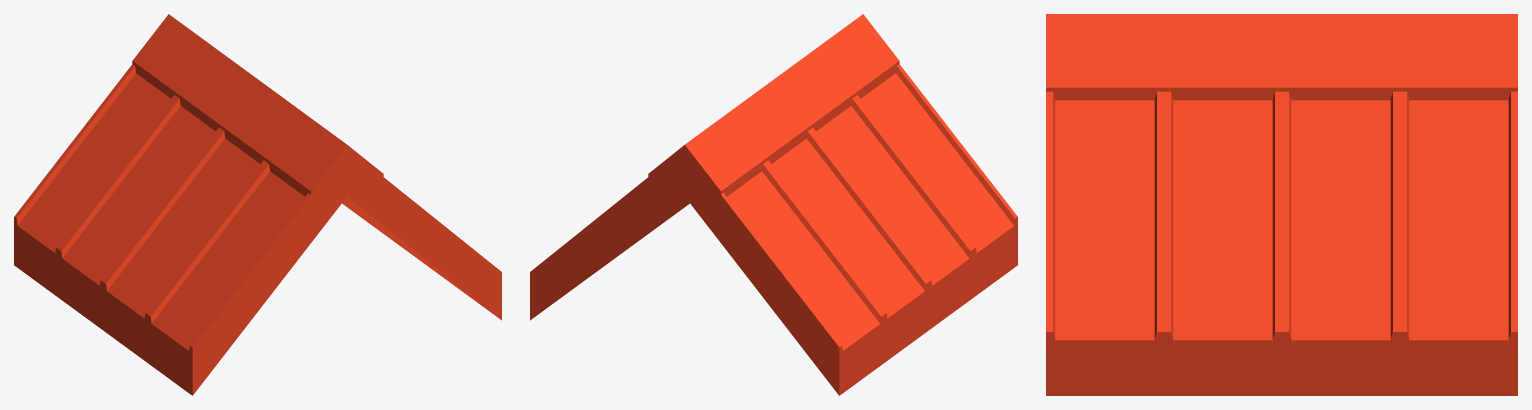
Rendered from roof-metal-regular-2x1m-center.fbx.
The picture shows the model from 3 angles, left to right: view 1: azimuth 30°, elevation 25°; view 2: azimuth 150°, elevation 25°; view 3: azimuth 270°, elevation 25°; orthographic projection. The views are drawn at different scales.
Parts seen in each view (by area): view 1: roof-metal-regular-2x1m-center; view 2: roof-metal-regular-2x1m-center; view 3: roof-metal-regular-2x1m-center.
Boxes of the visible parts, bbox=[...] form: roof-metal-regular-2x1m-center: bbox=[14, 14, 501, 395]; roof-metal-regular-2x1m-center: bbox=[530, 14, 1017, 395]; roof-metal-regular-2x1m-center: bbox=[1046, 14, 1517, 395].
Bounding box in the file's own units: 2 × 1.32 × 2.
